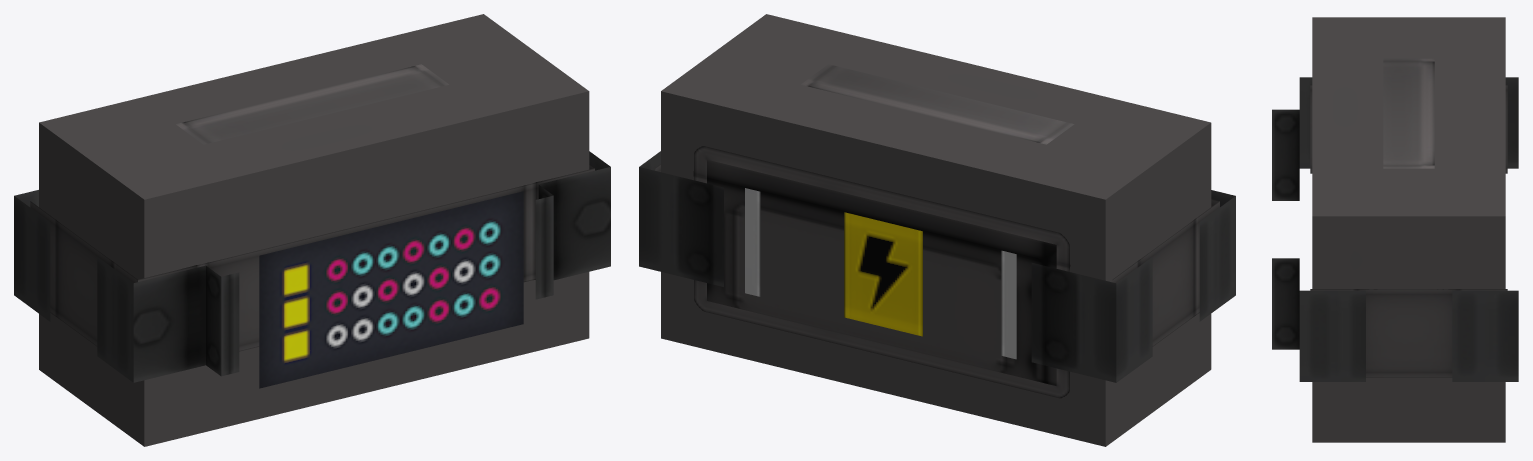
The model's file is obj_interactive_controller_03_lod1.fbx.
3 renders of one model, left to right at view 1: azimuth 30°, elevation 25°; view 2: azimuth 150°, elevation 25°; view 3: azimuth 270°, elevation 25°, orthographic. The views are drawn at different scales.
Parts seen in each view (by area): view 1: obj_interactive_controller_03_lod1; view 2: obj_interactive_controller_03_lod1; view 3: obj_interactive_controller_03_lod1.
Boxes of the visible parts, x1=… form: obj_interactive_controller_03_lod1: x1=14, y1=14, x2=610, y2=446; obj_interactive_controller_03_lod1: x1=639, y1=14, x2=1235, y2=446; obj_interactive_controller_03_lod1: x1=1272, y1=17, x2=1518, y2=442.
Size of the model in its own units: 2 by 1.01 by 1.01.
1 material, 1 textured.
